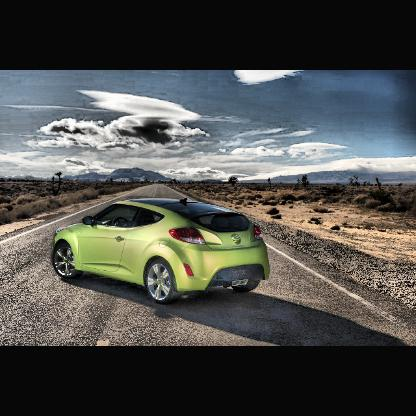Hyundai Veloster Hatchback 2012: (46, 188, 276, 312)
